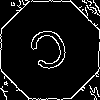C: (25, 25, 76, 82)
